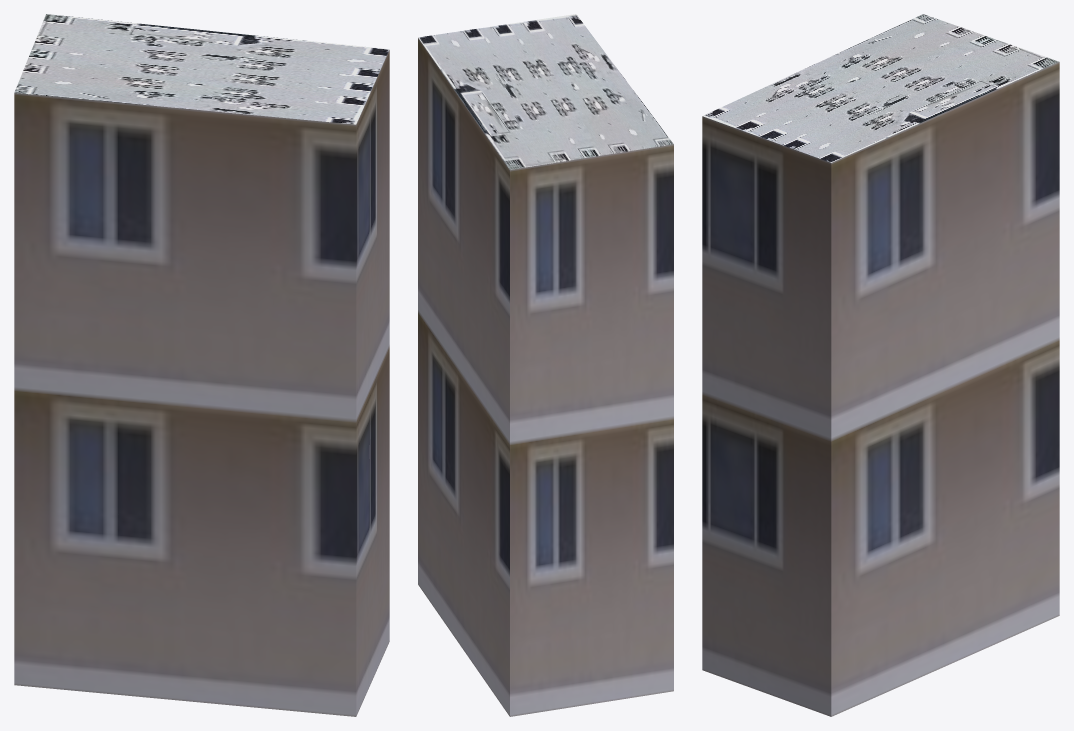
Rendered from ResTex__1665.fbx.
The picture shows the model from 3 angles, left to right: view 1: azimuth 30°, elevation 25°; view 2: azimuth 150°, elevation 25°; view 3: azimuth 270°, elevation 25°; orthographic projection. The views are drawn at different scales.
Parts seen in each view (by area): view 1: CityEngineMaterial_21_m, CityEngineMaterial_8_m; view 2: CityEngineMaterial_21_m, CityEngineMaterial_8_m; view 3: CityEngineMaterial_21_m, CityEngineMaterial_8_m.
Boxes of the visible parts, left/top/right/bottom form: CityEngineMaterial_21_m: left=14, top=50, right=389, bottom=716; CityEngineMaterial_8_m: left=14, top=14, right=389, bottom=124; CityEngineMaterial_21_m: left=418, top=38, right=673, bottom=716; CityEngineMaterial_8_m: left=418, top=14, right=673, bottom=169; CityEngineMaterial_21_m: left=702, top=62, right=1059, bottom=716; CityEngineMaterial_8_m: left=702, top=14, right=1058, bottom=162.
Size of the model in its own units: 3.46 by 6 by 3.51.
Materials: 2 (2 with a texture image).
